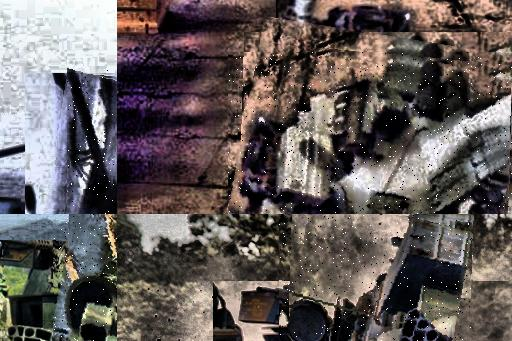tanks: (241, 54, 512, 215), (288, 217, 474, 341), (69, 70, 115, 215), (54, 273, 118, 341), (27, 187, 37, 215)
